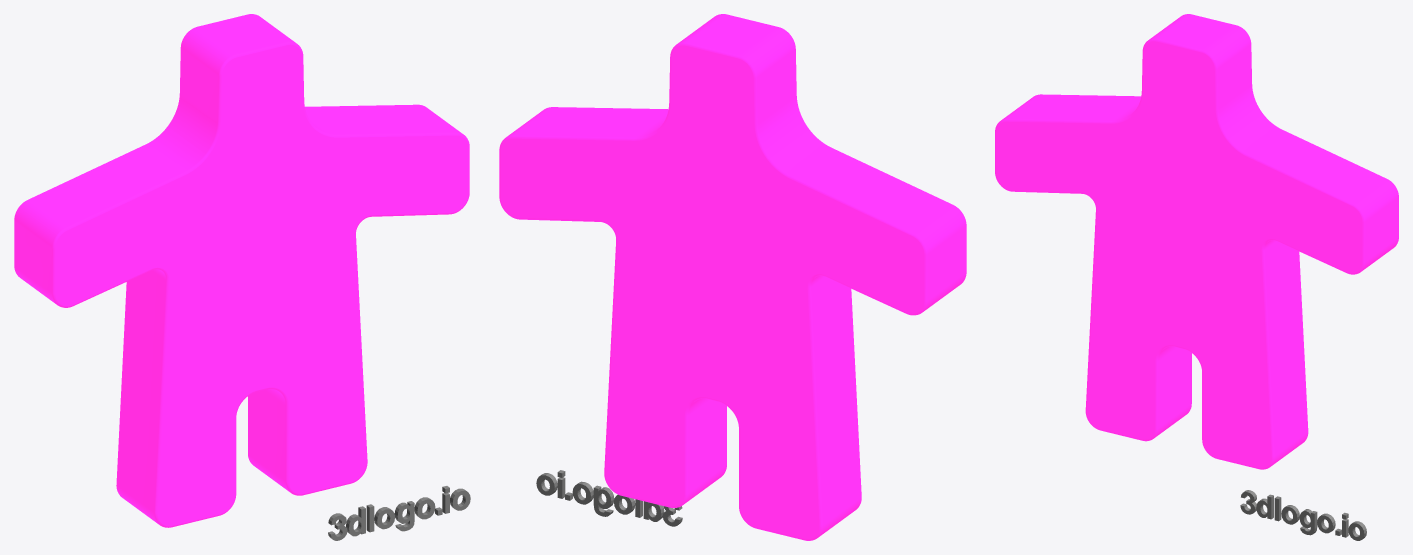
The model's file is nomo.glb.
3 views of the same model, side by side, from view 1: azimuth 30°, elevation 25°; view 2: azimuth 150°, elevation 25°; view 3: azimuth 330°, elevation 25° (orthographic). The views are drawn at different scales.
Visible parts, largest first — view 1: LogoMesh, WatermarkTag; view 2: LogoMesh, WatermarkTag; view 3: LogoMesh, WatermarkTag.
Part boxes in pixels (bbox=[...]): LogoMesh: bbox=[14, 14, 469, 527]; WatermarkTag: bbox=[328, 486, 470, 540]; LogoMesh: bbox=[499, 14, 966, 540]; WatermarkTag: bbox=[536, 470, 682, 526]; LogoMesh: bbox=[995, 14, 1398, 469]; WatermarkTag: bbox=[1240, 490, 1366, 540].
Size of the model in its own units: 0.9553 by 1.13 by 0.1584.
